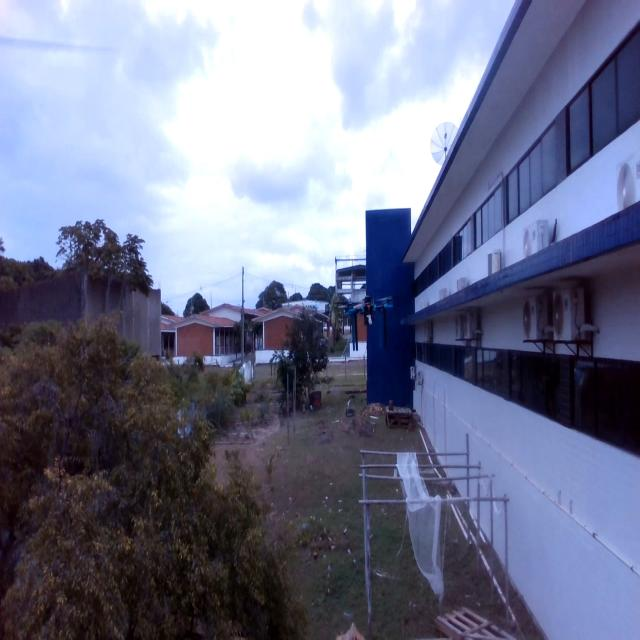-uav-: (327, 274, 415, 365)
